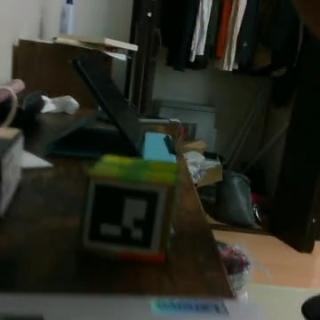armor: (84, 179, 168, 254)
robot: (82, 155, 177, 261)
